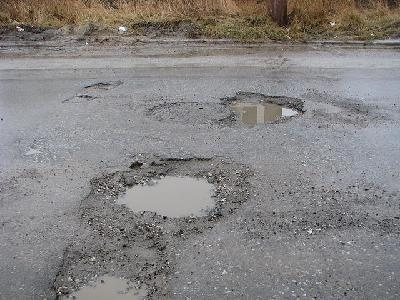pothole: (73, 152, 255, 242), (47, 243, 178, 298), (218, 88, 308, 129), (81, 78, 122, 92), (62, 93, 97, 105)
